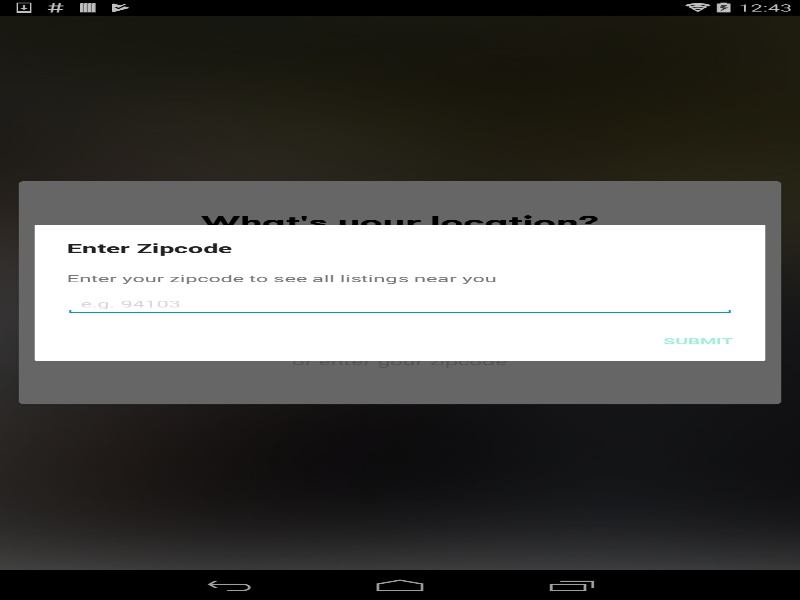Input: (64, 292, 735, 315)
